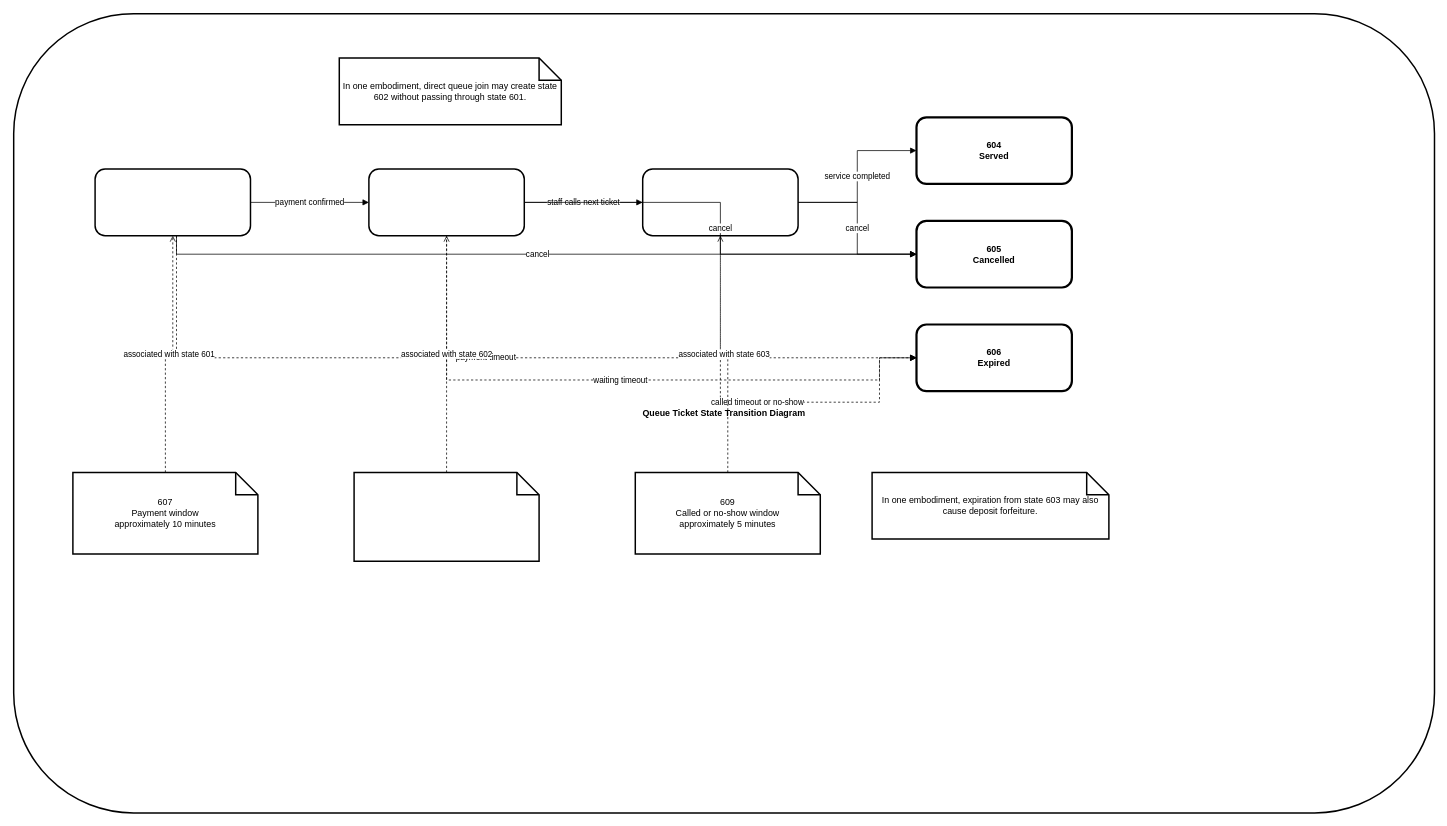
Some shapes in this 1447 by 826 pixel diagram are drawn without their labels. Here are the shapes that lost their labels. From the top down, the centre of each, then its label:
(172,202): 601 Pending Payment
(446,202): 602 Waiting
(720,202): 603 Called
(446,516): 608 Waiting window approximately 120 minutes or configured value
